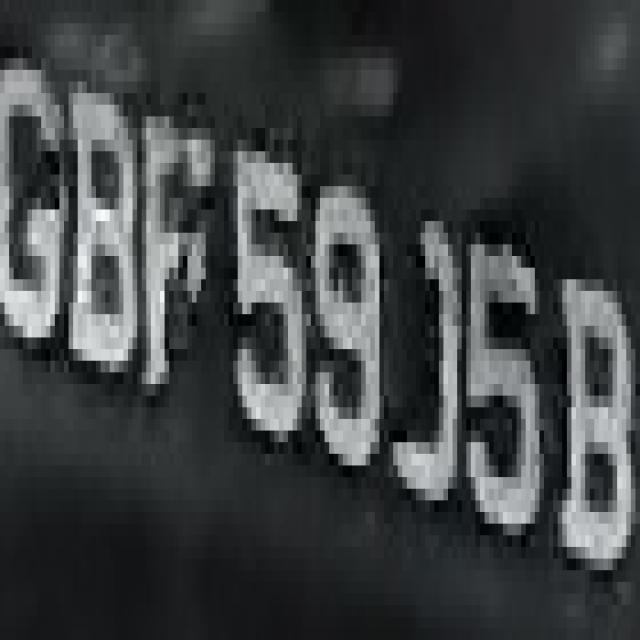0: (375, 186, 466, 570)
5: (215, 105, 311, 465), (462, 210, 544, 524)
9: (306, 163, 379, 489)
B: (549, 233, 626, 593), (59, 35, 128, 396)
F: (128, 105, 219, 407)
G: (0, 23, 59, 337)
